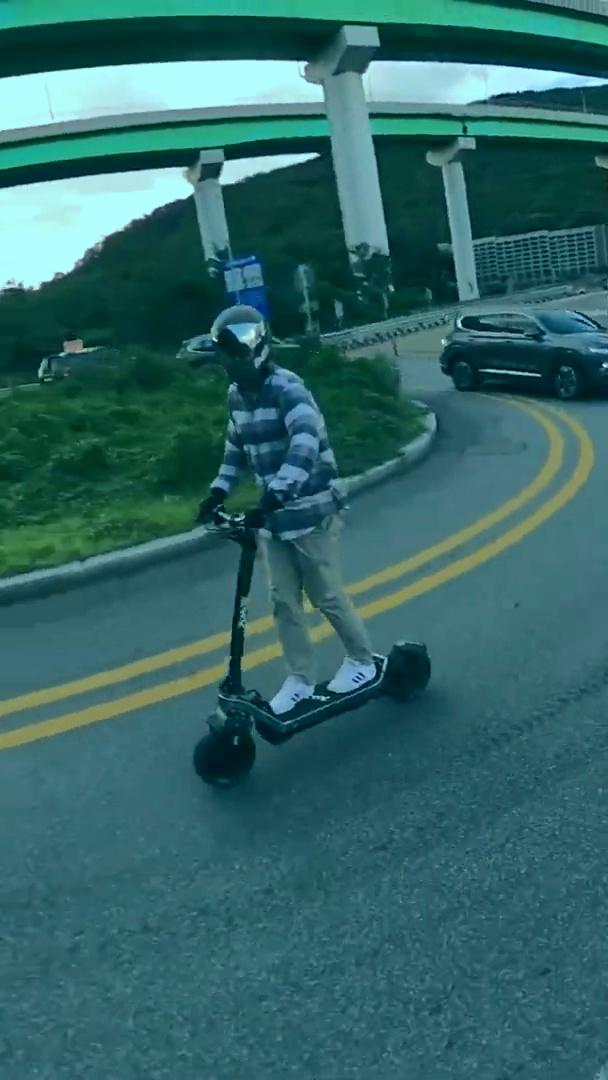helmet: (188, 298, 435, 792)
